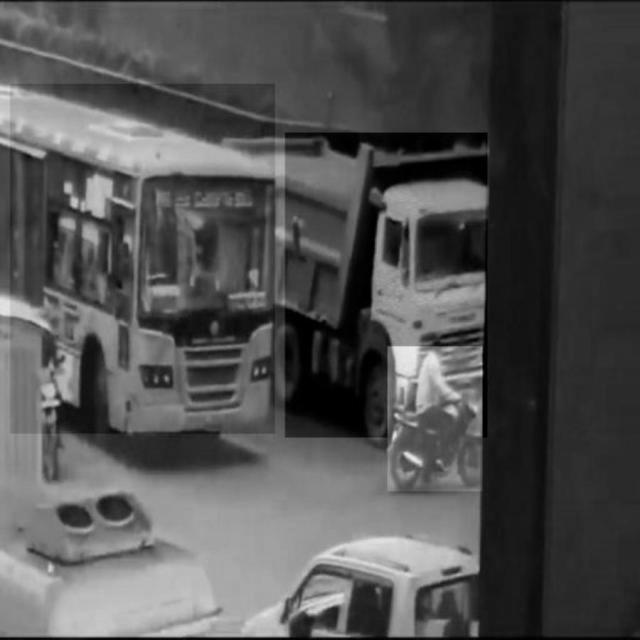vehicle: (9, 84, 275, 434), (286, 133, 488, 437), (389, 347, 483, 491)
